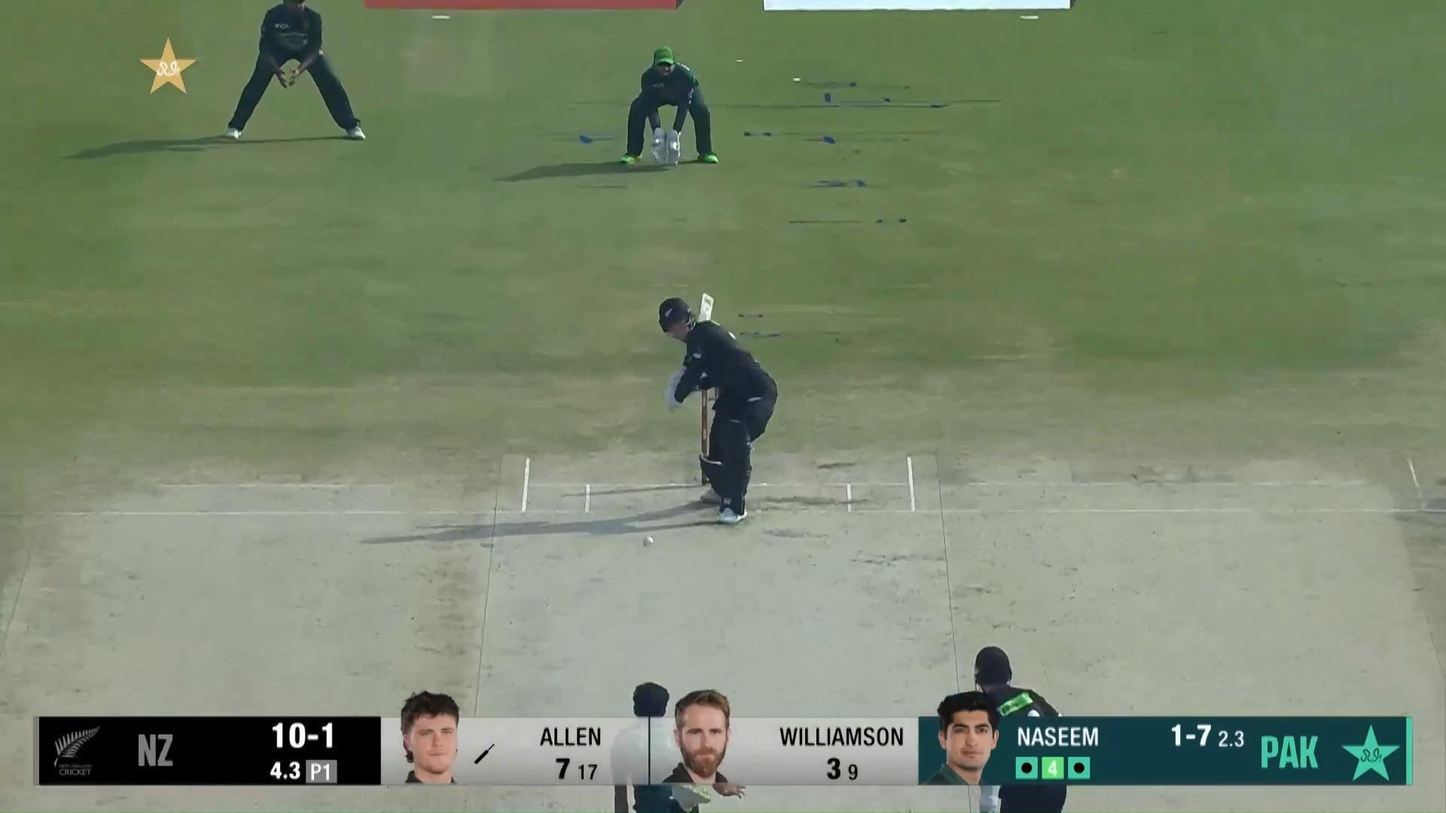BM 1: (658, 291, 779, 526)
BO: (613, 680, 745, 813)
